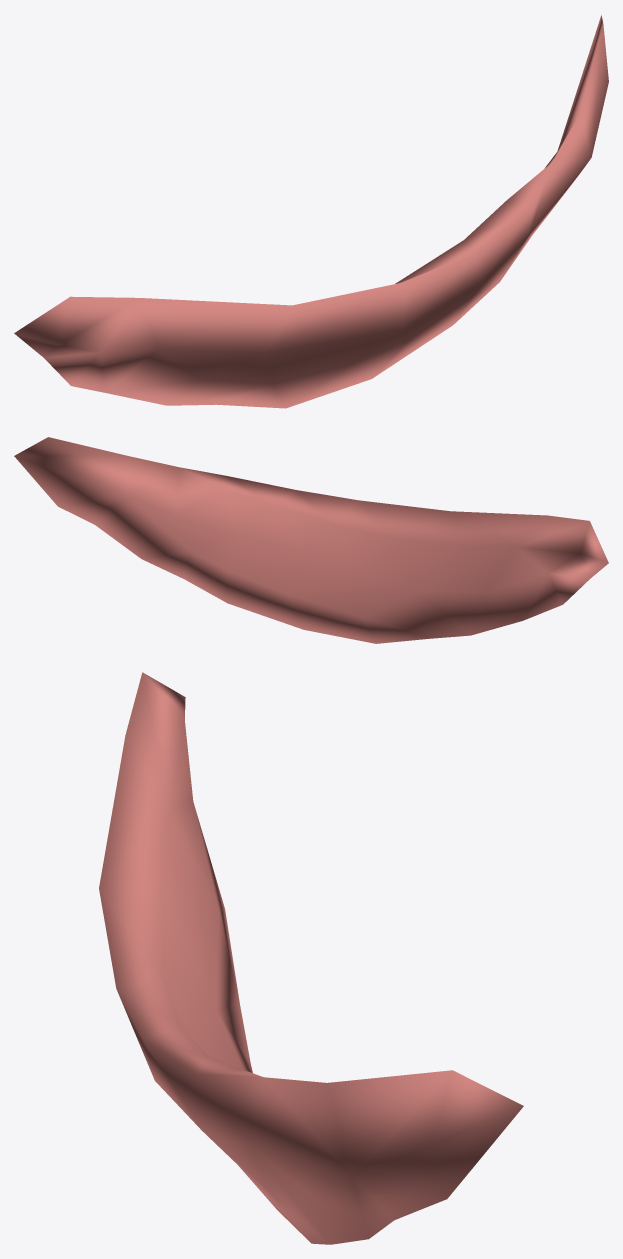
The picture shows the model from 3 angles, top to bottom: view 1: azimuth 30°, elevation 25°; view 2: azimuth 150°, elevation 25°; view 3: azimuth 270°, elevation 25°; orthographic projection. The views are drawn at different scales.
Visible parts, largest first — view 1: ZA_85e6b2f916ddbd95; view 2: ZA_85e6b2f916ddbd95; view 3: ZA_85e6b2f916ddbd95.
Boxes of the visible parts, box(x1,y1,x2,y2) form: ZA_85e6b2f916ddbd95: box(14, 15, 608, 408); ZA_85e6b2f916ddbd95: box(14, 437, 608, 643); ZA_85e6b2f916ddbd95: box(99, 672, 523, 1244).
Size of the model in its own units: 0.0237 by 0.00776 by 0.00857.
